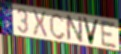3: (16, 8, 30, 36)
C: (48, 12, 66, 41)
E: (99, 19, 118, 50)
N: (65, 14, 84, 44)
V: (81, 16, 101, 46)
X: (31, 9, 49, 39)
